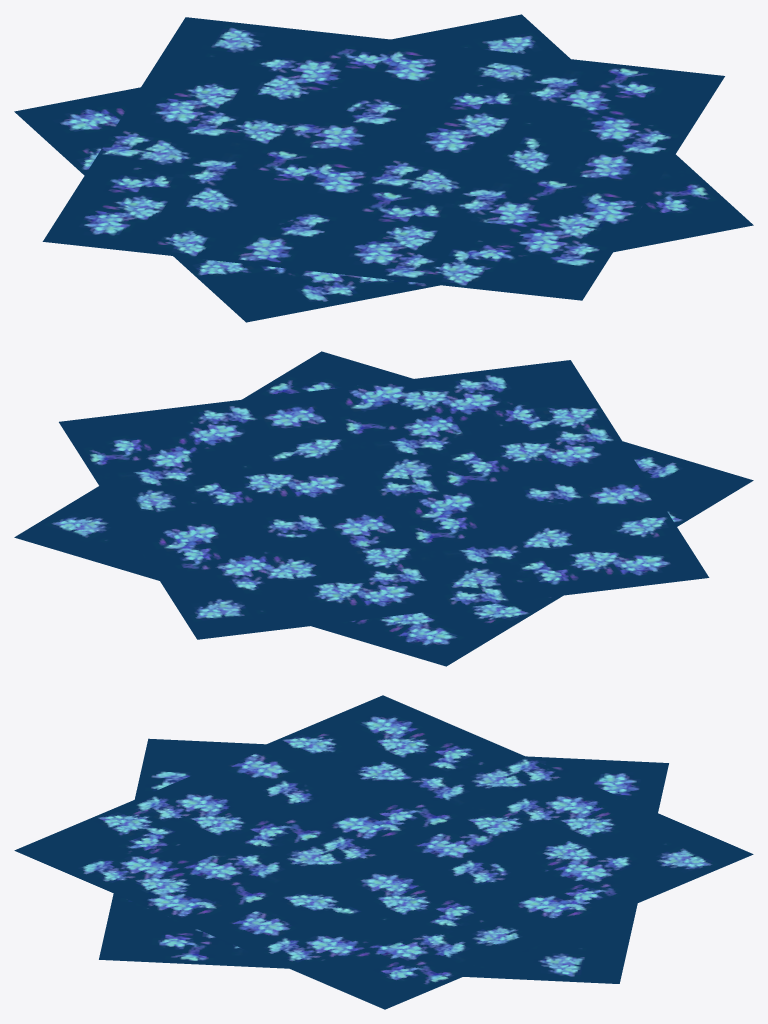
File: flower_patch_blue.glb
The picture shows the model from 3 angles, top to bottom: view 1: azimuth 30°, elevation 25°; view 2: azimuth 150°, elevation 25°; view 3: azimuth 270°, elevation 25°; orthographic projection. The views are drawn at different scales.
Parts seen in each view (by area): view 1: flower_patch_blue; view 2: flower_patch_blue; view 3: flower_patch_blue.
Boxes of the visible parts, left/top/right/bottom form: flower_patch_blue: left=14, top=14, right=753, bottom=322; flower_patch_blue: left=14, top=351, right=753, bottom=666; flower_patch_blue: left=14, top=695, right=753, bottom=1009.
Size of the model in its own units: 4.84 by 0.0971 by 4.84.
Materials: 1 (1 with a texture image).
